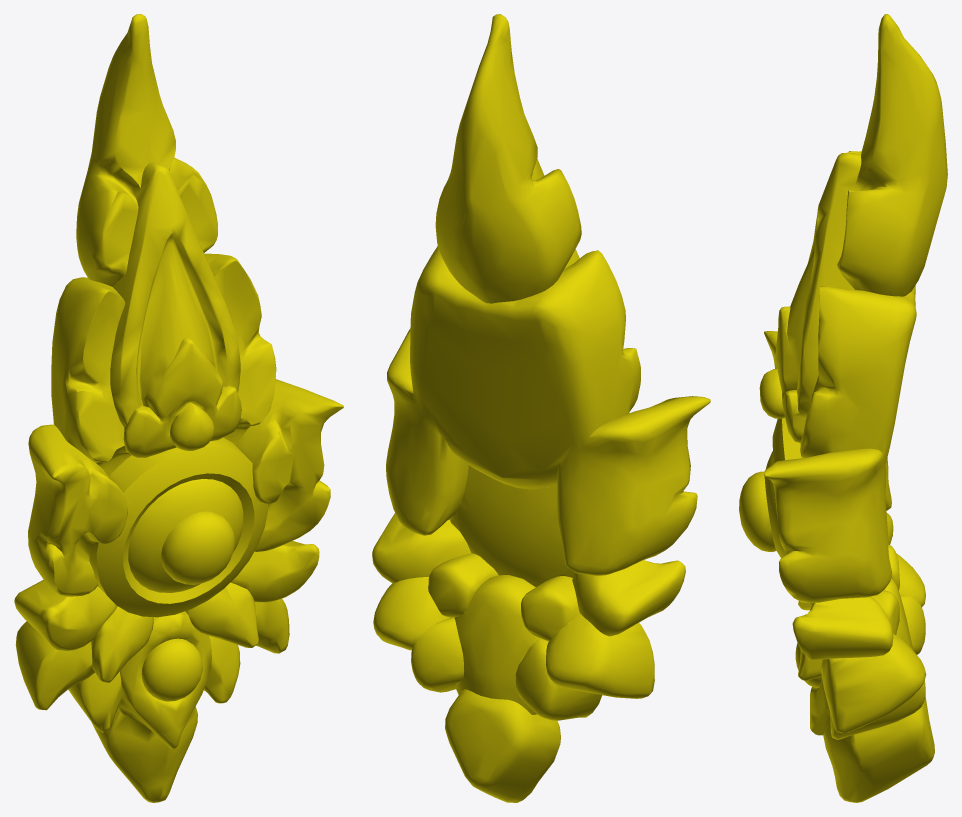
File: md_namo_kanok_thai.glb
The picture shows the model from 3 angles, left to right: view 1: azimuth 30°, elevation 25°; view 2: azimuth 150°, elevation 25°; view 3: azimuth 270°, elevation 25°; orthographic projection. The views are drawn at different scales.
Parts seen in each view (by area): view 1: Object_2; view 2: Object_2; view 3: Object_2.
Boxes of the visible parts, bbox=[...] form: Object_2: bbox=[14, 14, 343, 802]; Object_2: bbox=[372, 14, 710, 802]; Object_2: bbox=[739, 14, 947, 802].
Size of the model in its own units: 0.2623 by 0.6672 by 0.1604.
